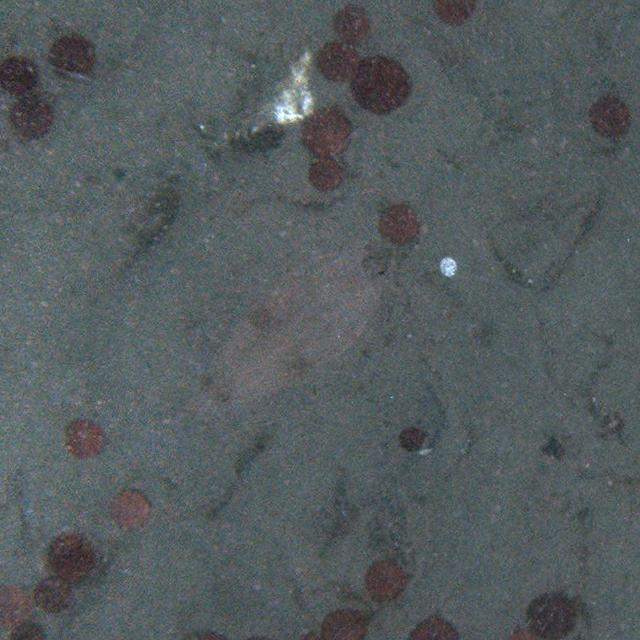flatfish: (171, 233, 396, 423)
